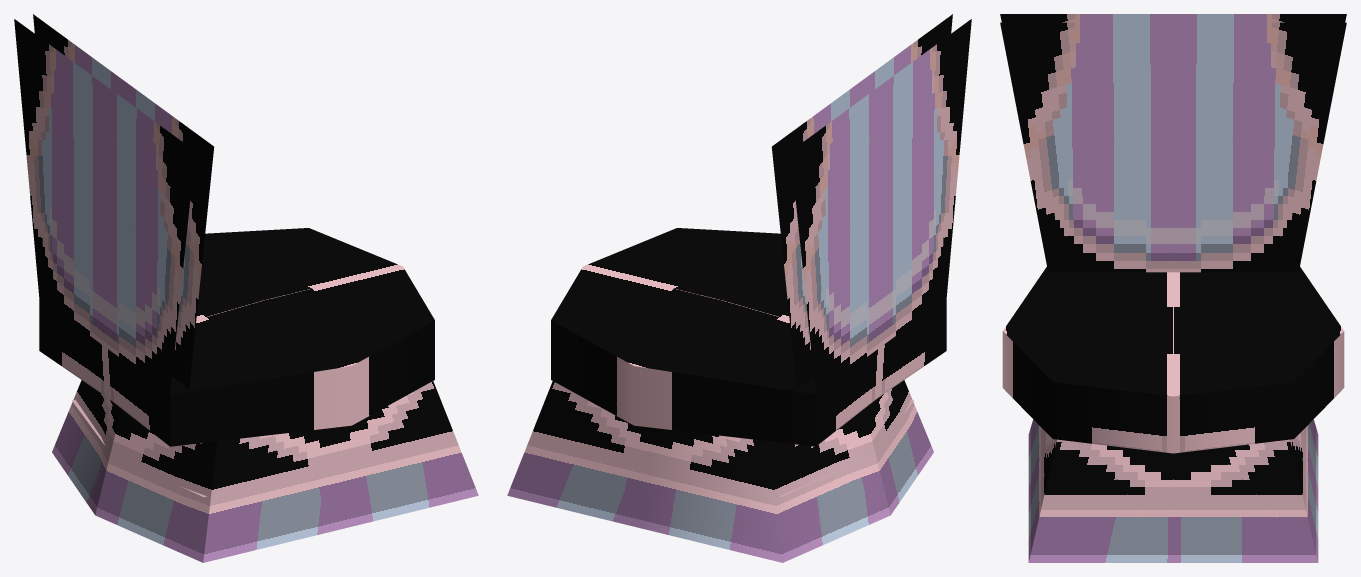
3 renders of one model, left to right at view 1: azimuth 30°, elevation 25°; view 2: azimuth 150°, elevation 25°; view 3: azimuth 270°, elevation 25°, orthographic. The views are drawn at different scales.
Visible parts, largest first — view 1: 3559kg_02_isu; view 2: 3559kg_02_isu; view 3: 3559kg_02_isu.
Boxes of the visible parts, x1,y1,x2,y2 form: 3559kg_02_isu: [14, 14, 478, 562]; 3559kg_02_isu: [507, 14, 971, 562]; 3559kg_02_isu: [1000, 14, 1346, 562].
Size of the model in its own units: 0.8157 by 1.08 by 0.8315.
1 material, 1 textured.
